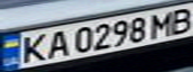0: (69, 24, 97, 54)
2: (90, 20, 115, 52)
8: (127, 14, 154, 43)
9: (109, 17, 133, 47)
A: (42, 28, 72, 58)
B: (163, 5, 193, 35)
K: (15, 31, 51, 64)
M: (145, 9, 181, 38)
